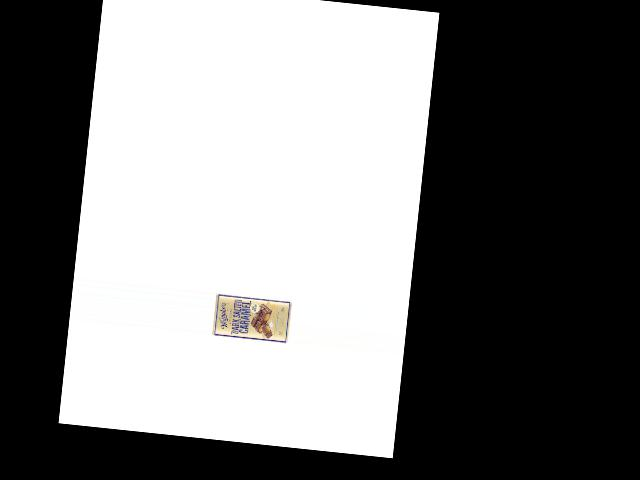chocolate: (212, 290, 294, 344)
